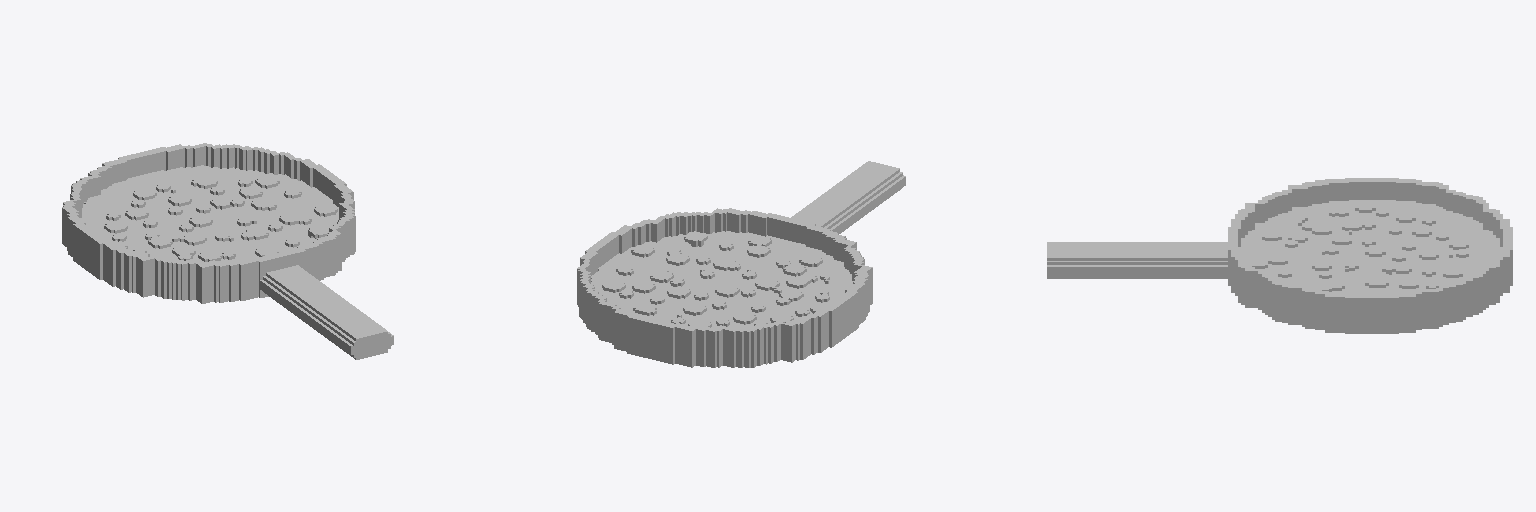
Rendered from SartenArrozTomateCarne.obj.
3 renders of one model, left to right at view 1: azimuth 30°, elevation 25°; view 2: azimuth 150°, elevation 25°; view 3: azimuth 270°, elevation 25°, orthographic.
Parts seen in each view (by area): view 1: object 1; view 2: object 1; view 3: object 1.
Part boxes in pixels (left/top/right/bottom): object 1: left=62, top=143, right=393, bottom=359; object 1: left=577, top=161, right=905, bottom=367; object 1: left=1047, top=178, right=1512, bottom=333.
Size of the model in its own units: 8.5 by 1.2 by 13.9.